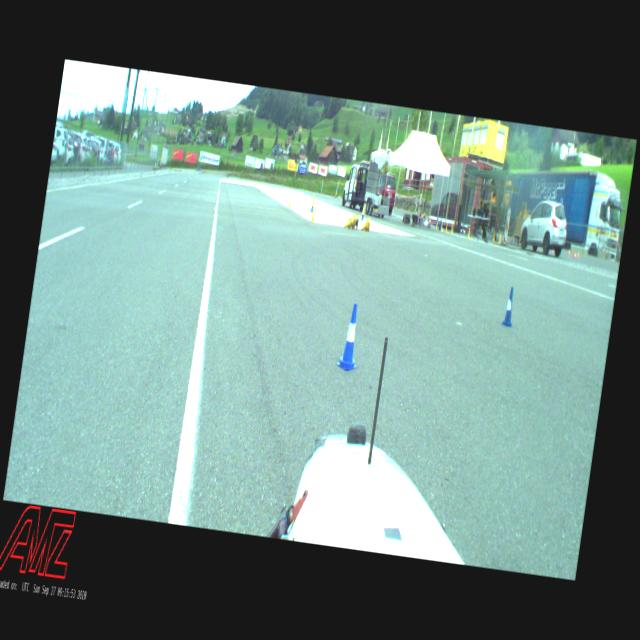blue_cone: (336, 303, 366, 372), (501, 286, 517, 326)
